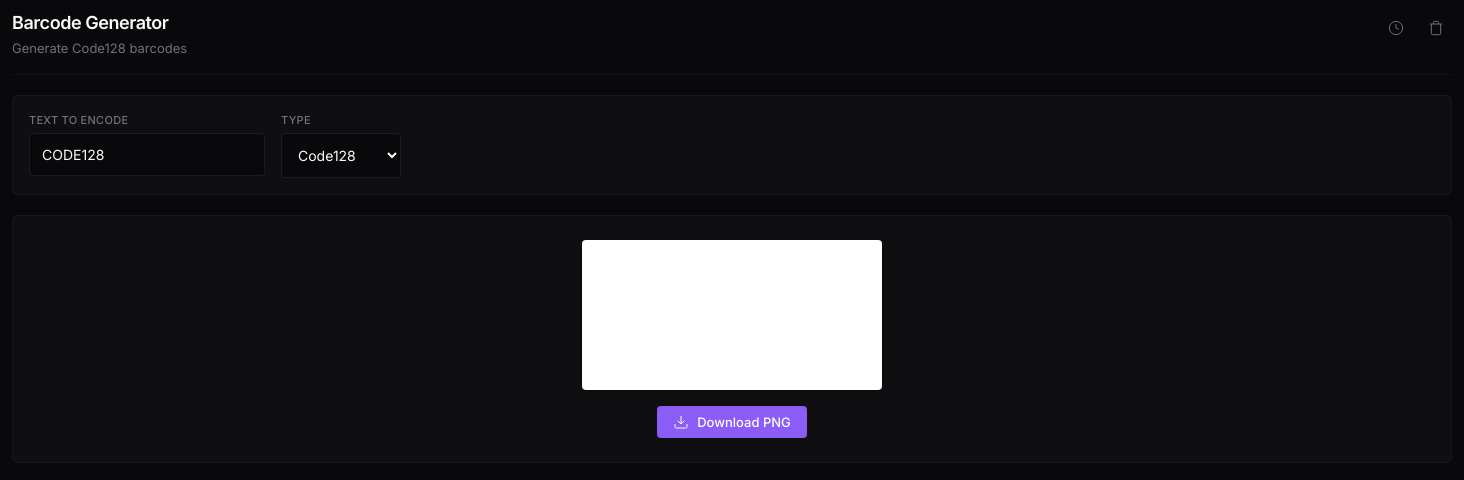
Scenario: BarcodeTool › User Interactions › should clear content when clear button clicked
The width and height of the screenshot is (1464, 480).
What coordinates should you click on to do the following:
click the button titled "Clear"
I would click on:
 (1436, 28)
Its box is [1420,12,1452,44].
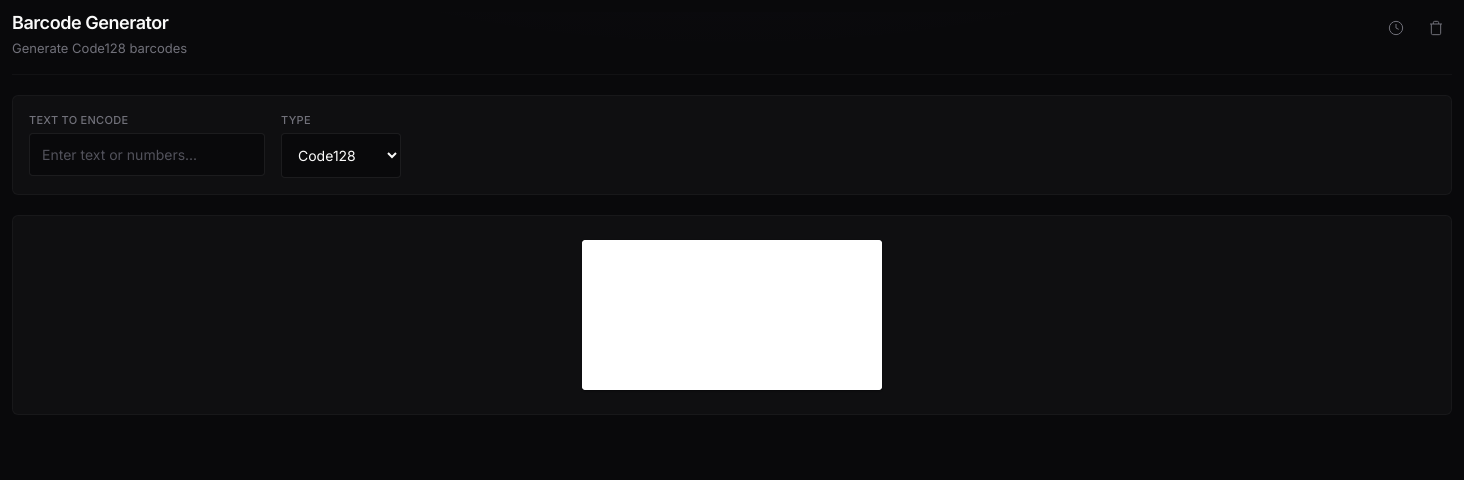
Now the field labelled "Text to encode" is empty, box [29,132,265,176]
